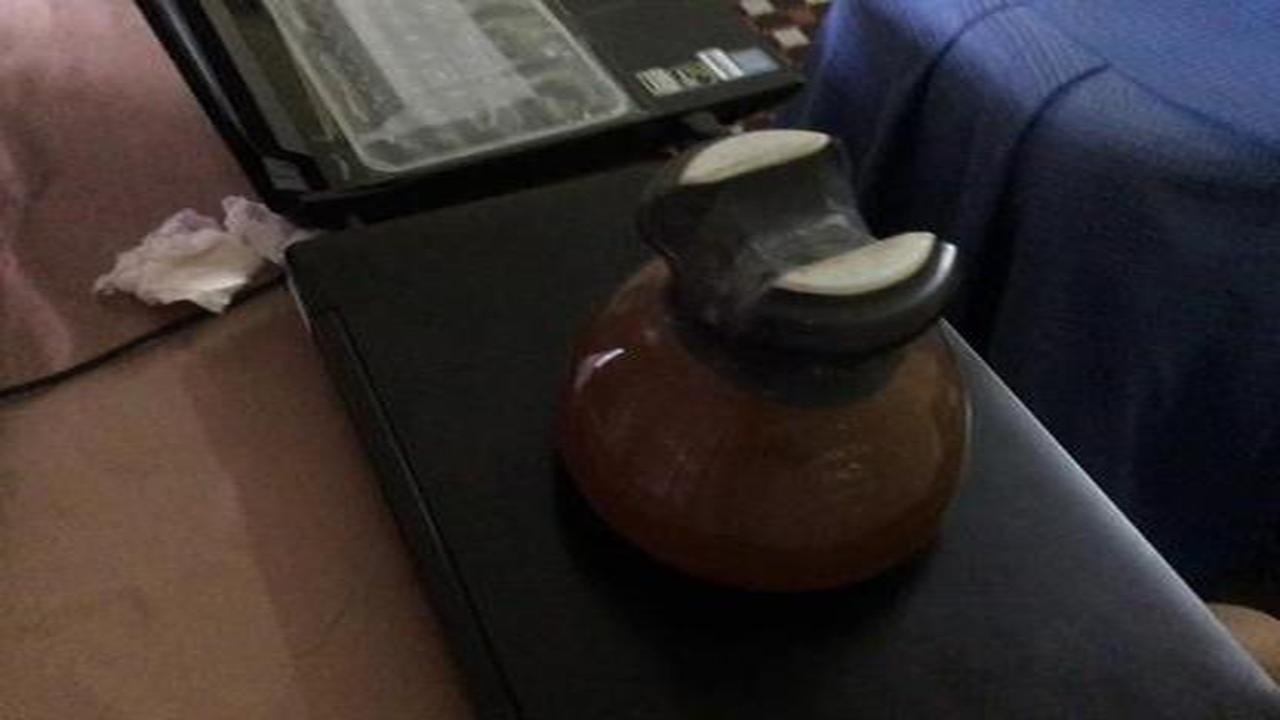insulator_pin: (539, 106, 988, 629)
